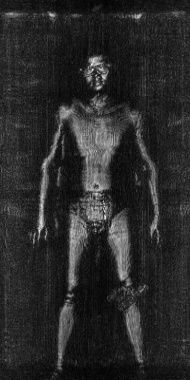gun: (105, 277, 149, 311)
